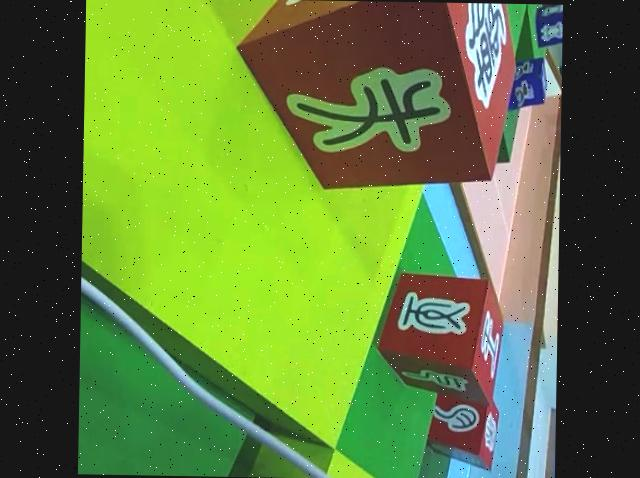R2 Fake: (224, 0, 518, 196), (377, 265, 506, 407), (418, 386, 504, 475)
